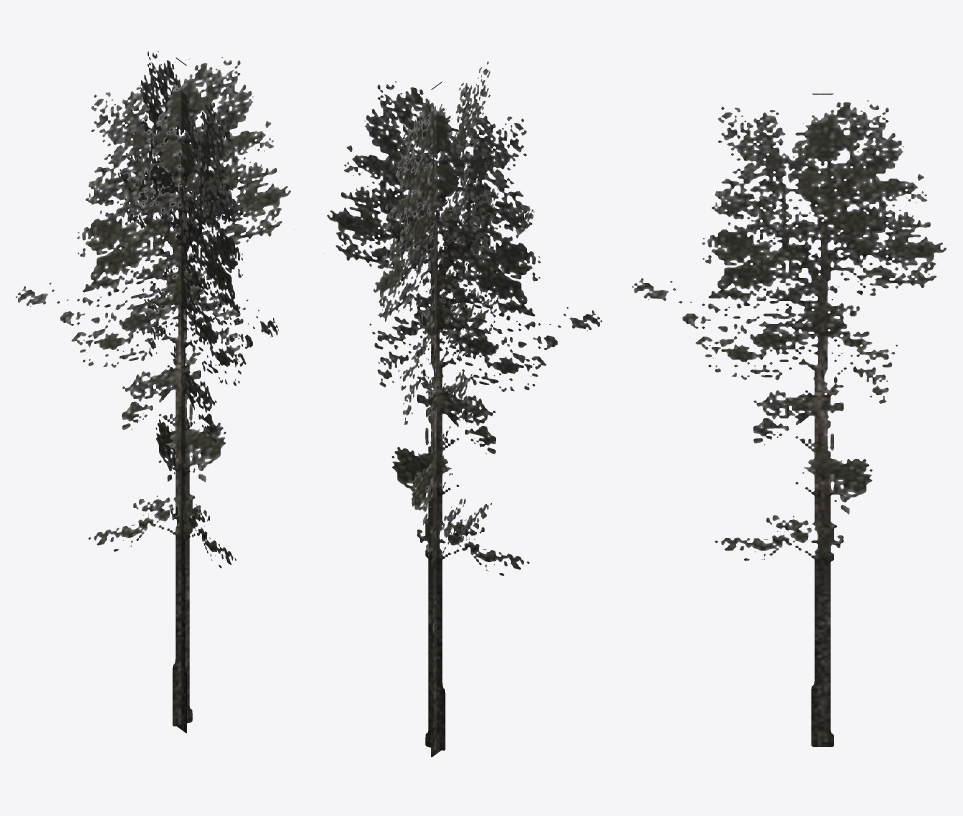
Rendered from Tree5.fbx.
3 views of the same model, side by side, from view 1: azimuth 30°, elevation 25°; view 2: azimuth 150°, elevation 25°; view 3: azimuth 270°, elevation 25° (orthographic). The views are drawn at different scales.
Visible parts, largest first — view 1: Tree5; view 2: Tree5; view 3: Tree5.
Boxes of the visible parts, bbox=[...] form: Tree5: bbox=[15, 51, 294, 733]; Tree5: bbox=[323, 61, 602, 757]; Tree5: bbox=[632, 93, 946, 746].
Size of the model in its own units: 1814 by 4136 by 1814.
